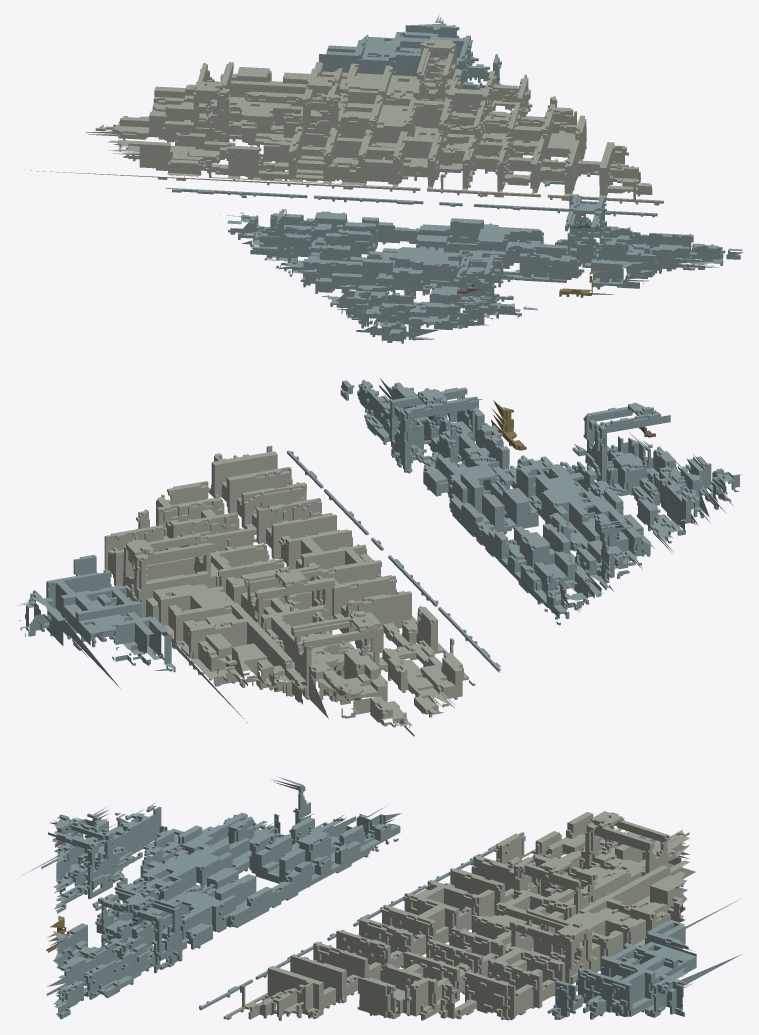
3 views of the same model, one above another, from view 1: azimuth 30°, elevation 25°; view 2: azimuth 150°, elevation 25°; view 3: azimuth 270°, elevation 25° (orthographic). The views are drawn at different scales.
Visible parts, largest first — view 1: measured-industrial; view 2: measured-industrial; view 3: measured-industrial.
Boxes of the visible parts, bbox=[...] form: measured-industrial: bbox=[24, 15, 743, 343]; measured-industrial: bbox=[15, 378, 741, 736]; measured-industrial: bbox=[19, 776, 742, 1020].
Size of the model in its own units: 224 by 28.77 by 292.
